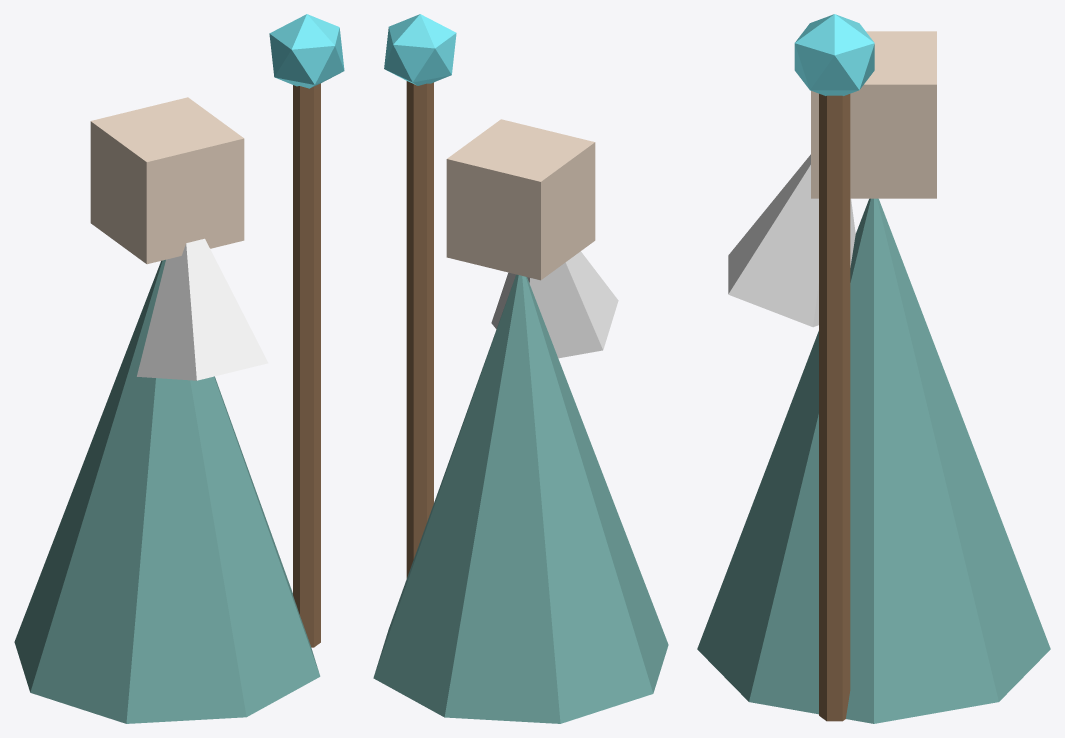
Rendered from npc_elder.glb.
The picture shows the model from 3 angles, left to right: view 1: azimuth 30°, elevation 25°; view 2: azimuth 150°, elevation 25°; view 3: azimuth 270°, elevation 25°; orthographic projection. The views are drawn at different scales.
Parts seen in each view (by area): view 1: Cone, Cube, Cylinder, Cone.001, Icosphere; view 2: Cone, Cube, Cylinder, Cone.001, Icosphere; view 3: Cone, Cylinder, Cube, Cone.001, Icosphere.
Part boxes in pixels (box(x1,y1,x2,y2)): Cone: box(14, 259, 320, 723); Cube: box(90, 97, 244, 264); Cylinder: box(293, 83, 320, 647); Cone.001: box(137, 238, 268, 380); Icosphere: box(269, 14, 344, 88); Cone: box(373, 274, 668, 723); Cube: box(446, 119, 595, 280); Cylinder: box(406, 81, 433, 578); Cone.001: box(491, 251, 618, 358); Icosphere: box(384, 14, 456, 85); Cone: box(697, 198, 1050, 723); Cylinder: box(819, 94, 850, 721); Cube: box(811, 31, 936, 198); Cone.001: box(728, 154, 855, 327); Icosphere: box(794, 14, 874, 95).
Size of the model in its own units: 0.9573 by 1.97 by 0.9.
